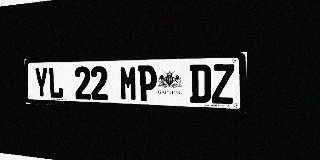2: (91, 66, 108, 100), (75, 66, 91, 100)
D: (190, 64, 211, 103)
L: (48, 67, 64, 99)
M: (119, 66, 138, 101)
P: (138, 65, 157, 102)
Y: (34, 67, 49, 98)
Z: (212, 64, 234, 104)
